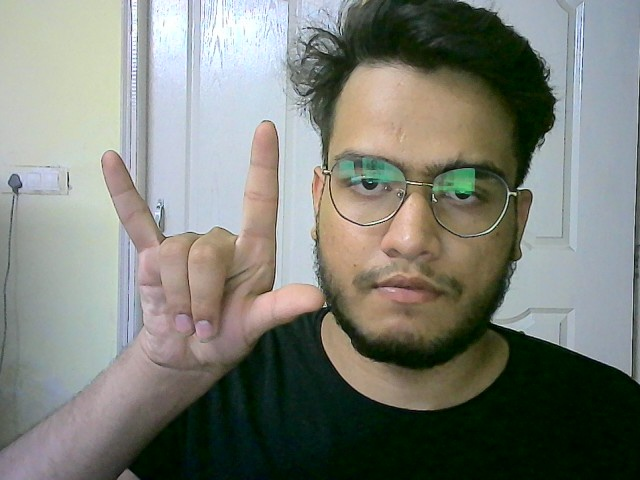I Love You: (92, 117, 330, 367)
